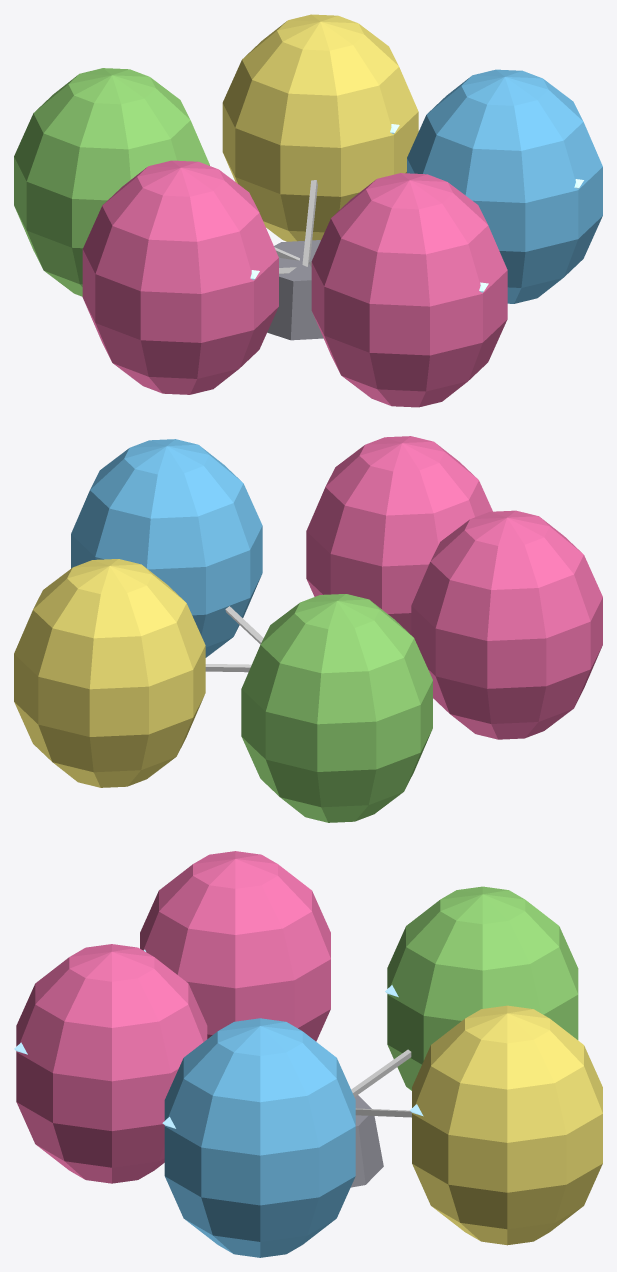
Rendered from diamond_balloons.glb.
The picture shows the model from 3 angles, top to bottom: view 1: azimuth 30°, elevation 25°; view 2: azimuth 150°, elevation 25°; view 3: azimuth 270°, elevation 25°; orthographic projection. The views are drawn at different scales.
Parts seen in each view (by area): view 1: balloons, weight_diamond_weight, strings_diamond_knot; view 2: balloons, strings_diamond_knot; view 3: balloons, weight_diamond_weight, strings_diamond_knot.
Boxes of the visible parts, x1=… form: balloons: x1=14, y1=14, x2=602, y2=407; weight_diamond_weight: x1=267, y1=240, x2=323, y2=340; strings_diamond_knot: x1=274, y1=180, x2=317, y2=274; balloons: x1=14, y1=436, x2=602, y2=822; strings_diamond_knot: x1=205, y1=606, x2=263, y2=672; balloons: x1=16, y1=851, x2=602, y2=1257; weight_diamond_weight: x1=350, y1=1095, x2=383, y2=1187; strings_diamond_knot: x1=351, y1=1049, x2=411, y2=1117.
Size of the model in its own units: 0.579 by 0.26 by 0.5717.
